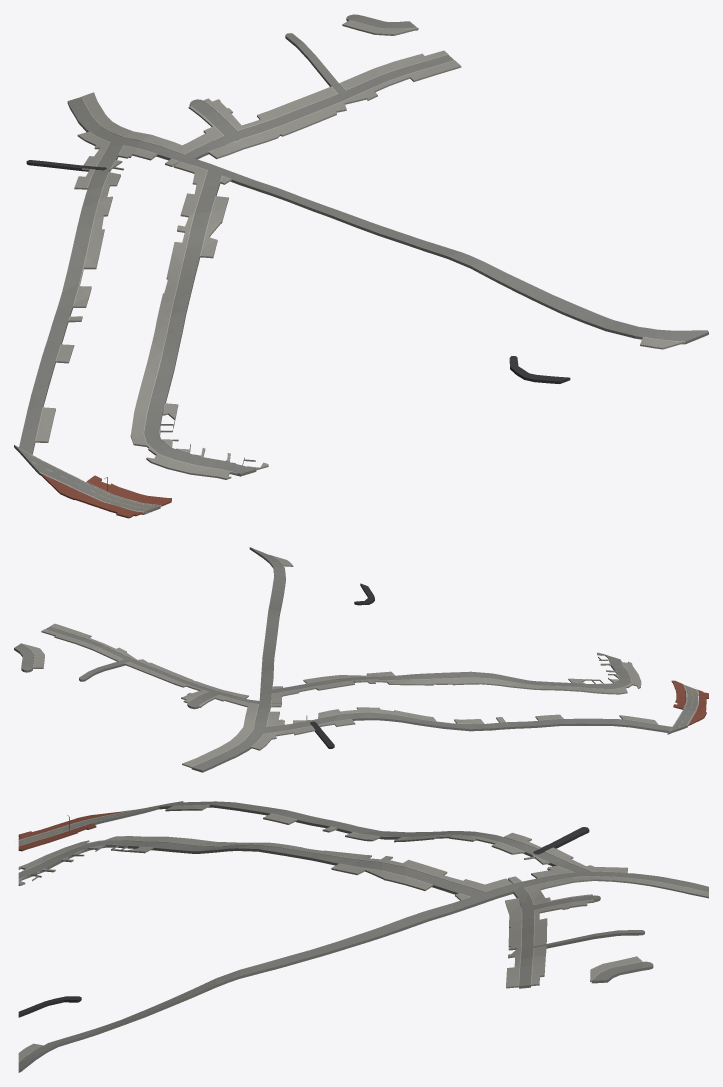
3 views of the same model, one above another, from view 1: azimuth 30°, elevation 25°; view 2: azimuth 150°, elevation 25°; view 3: azimuth 270°, elevation 25° (orthographic). The views are drawn at different scales.
Bounding box in the file's own units: 293 × 62.76 × 294.
